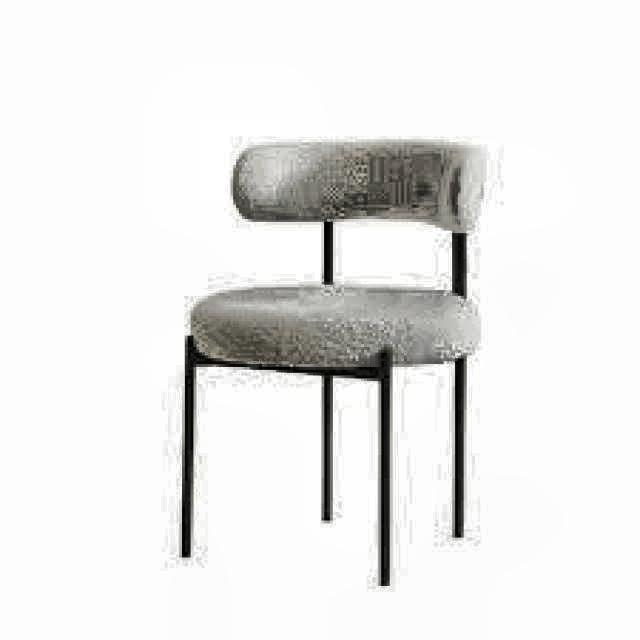cadeira: (175, 132, 490, 590), (228, 147, 488, 337)
